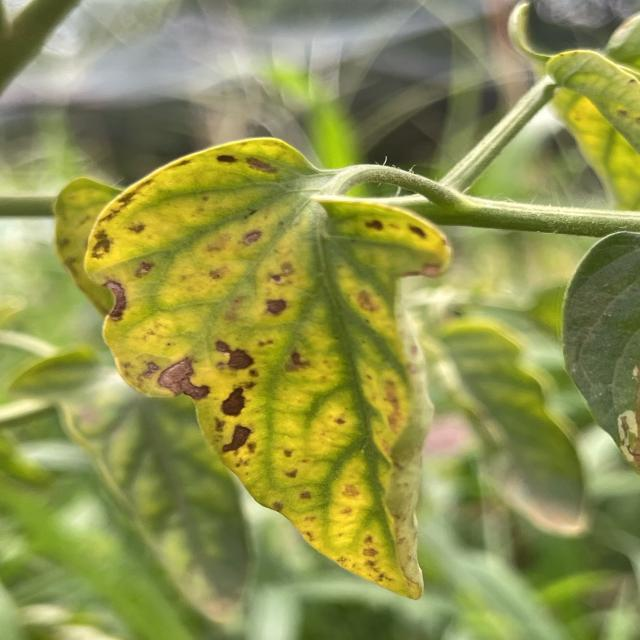tomato_early blight: (56, 133, 442, 592), (55, 368, 258, 626), (498, 0, 640, 209), (555, 230, 640, 476), (436, 327, 565, 476)
